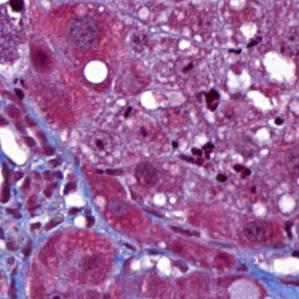inflammation: (195, 83, 230, 120), (224, 154, 257, 184), (186, 137, 219, 165), (64, 205, 96, 232)
